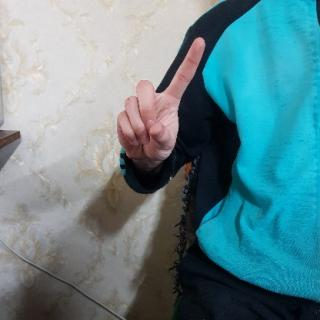BAA: (112, 33, 212, 172)
